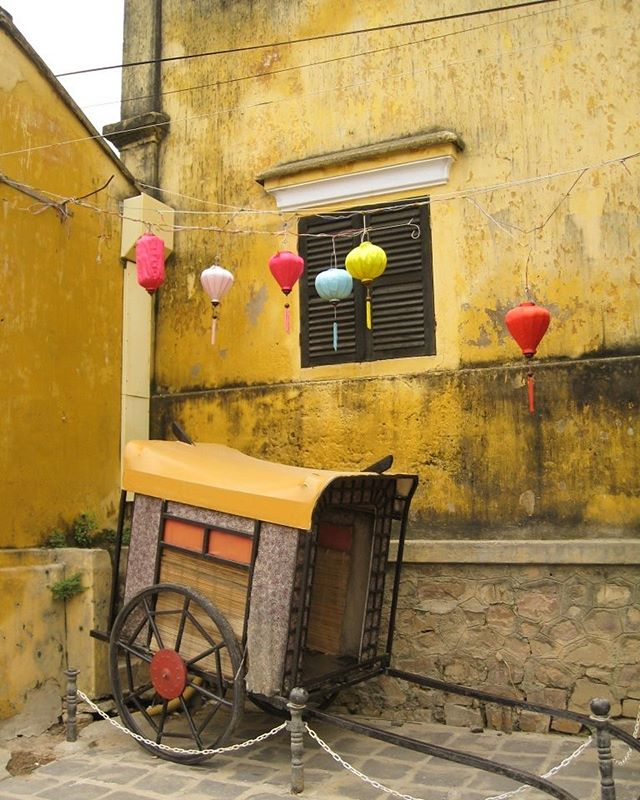building: (22, 1, 640, 736)
pushcart: (87, 441, 427, 775)
window: (289, 205, 443, 359)
